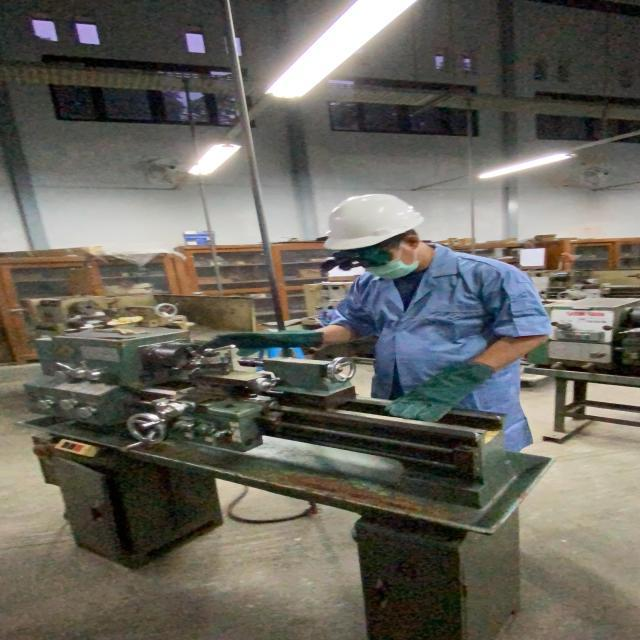glasses: (315, 244, 396, 273)
